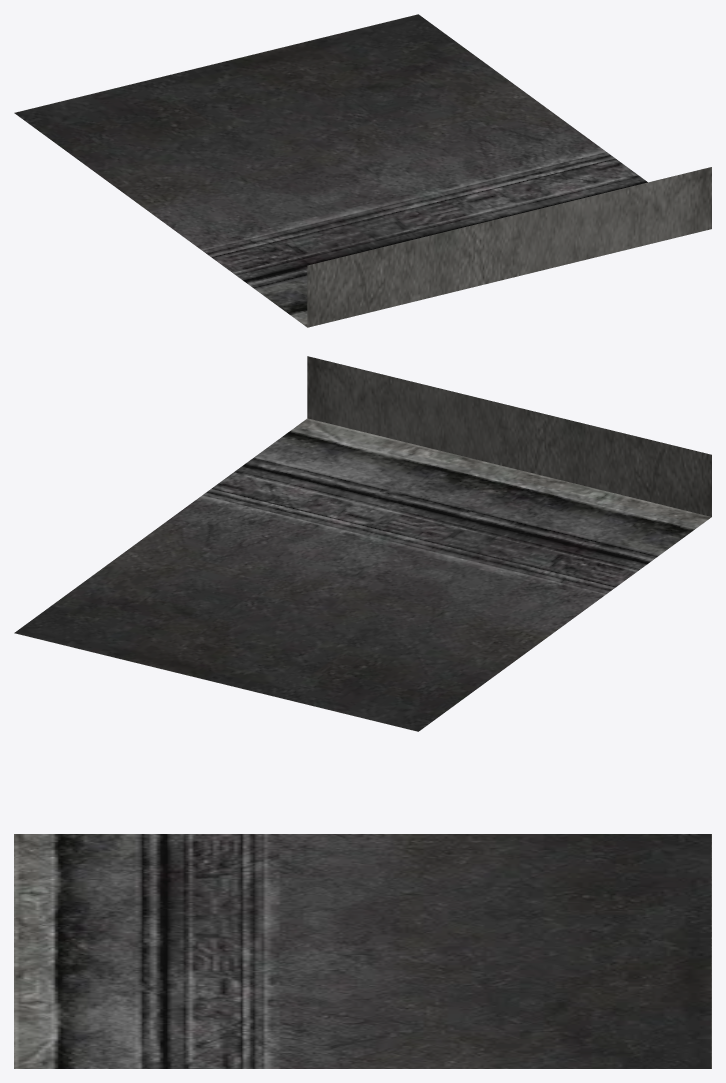
3 views of the same model, one above another, from view 1: azimuth 30°, elevation 25°; view 2: azimuth 150°, elevation 25°; view 3: azimuth 270°, elevation 25° (orthographic). The views are drawn at different scales.
Parts seen in each view (by area): view 1: model_Object12; view 2: model_Object12; view 3: model_Object12.
Part boxes in pixels (left/top/right/bottom): model_Object12: left=14, top=14, right=711, bottom=327; model_Object12: left=14, top=356, right=711, bottom=731; model_Object12: left=14, top=834, right=711, bottom=1068.
Size of the model in its own units: 2.92 by 0.4299 by 3.68.
Materials: 1 (1 with a texture image).
